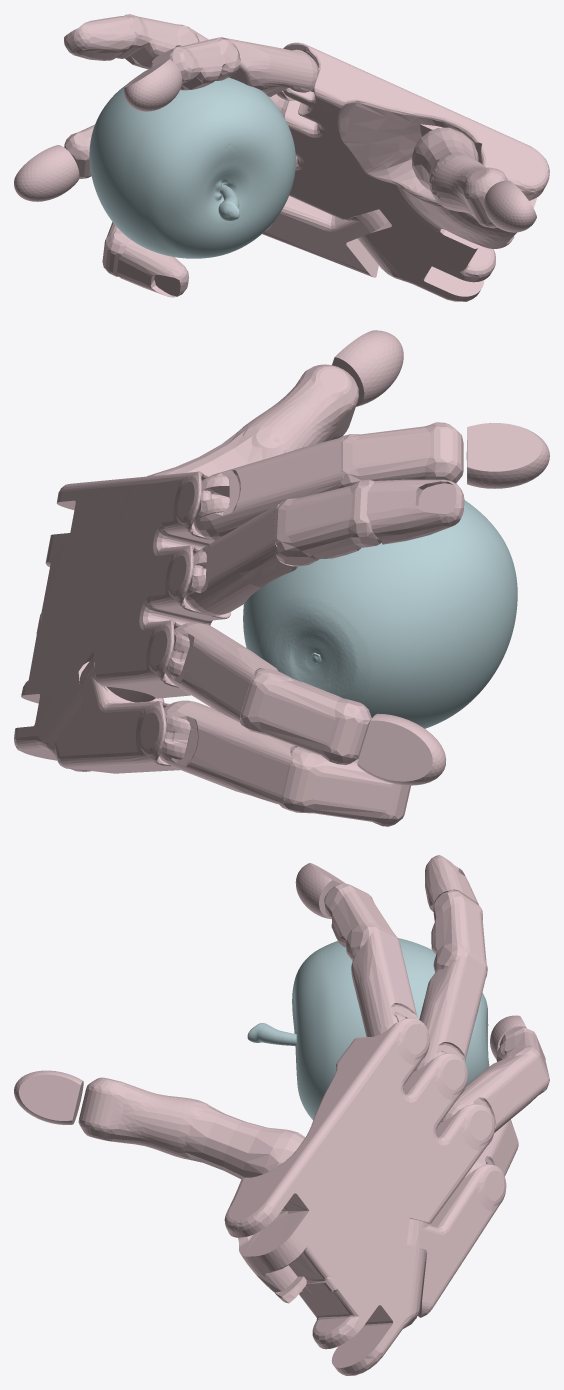
Rendered from grasp_9.glb.
The picture shows the model from 3 angles, top to bottom: view 1: azimuth 30°, elevation 25°; view 2: azimuth 150°, elevation 25°; view 3: azimuth 270°, elevation 25°; orthographic projection. The views are drawn at different scales.
Parts seen in each view (by area): view 1: world; view 2: world; view 3: world.
Boxes of the visible parts, box(x1,y1,x2,y2) form: world: box(14, 14, 549, 301); world: box(14, 330, 549, 826); world: box(14, 855, 549, 1375).
Bounding box in the file's own units: 0.1815 × 0.138 × 0.1955.
